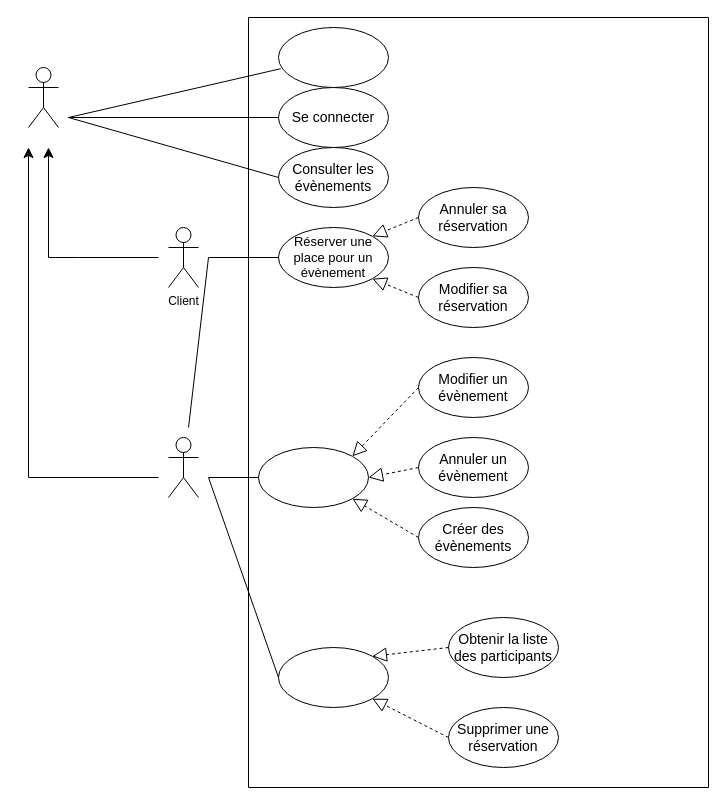
This 726x805 diagram has some shape labels left out. Each missing label, with the box of its shape:
Administrateur: (168, 436, 198, 498)
Créer un compte: (278, 26, 388, 88)
Gérer les réservations: (278, 646, 388, 708)
Gérer les évènements: (258, 446, 368, 508)
Utilisateur: (28, 66, 58, 128)
